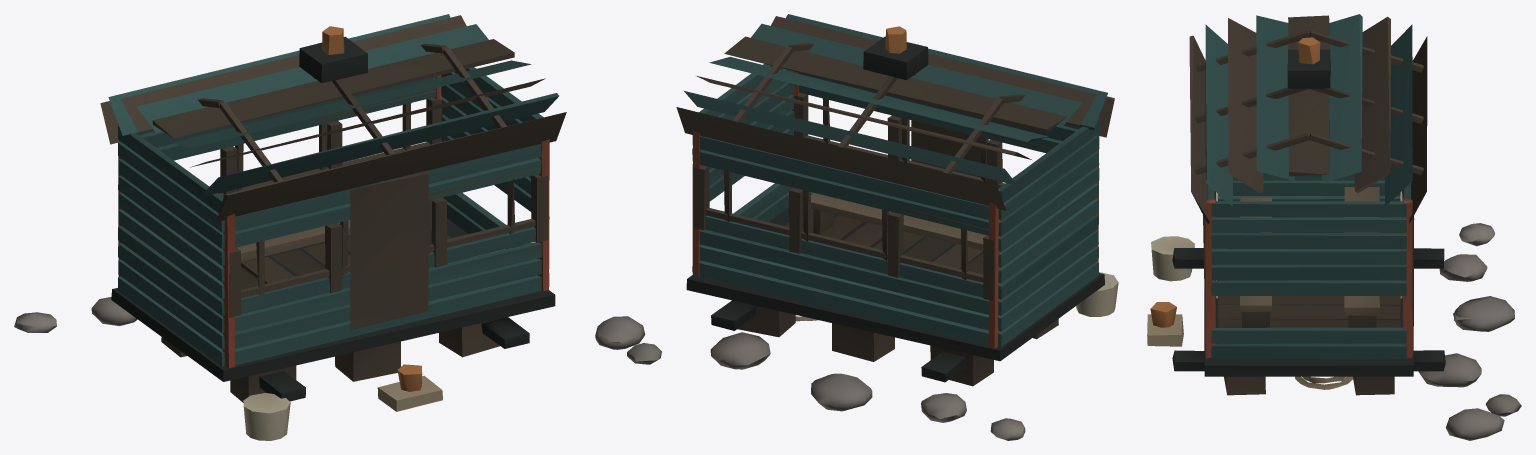
Rendered from tram_car_parked_b_lod2.glb.
3 views of the same model, side by side, from view 1: azimuth 30°, elevation 25°; view 2: azimuth 150°, elevation 25°; view 3: azimuth 270°, elevation 25° (orthographic). The views are drawn at different scales.
Visible parts, largest first — view 1: Surface.001; view 2: Surface.001; view 3: Surface.001.
Boxes of the visible parts, x1,y1,x2,y2 form: Surface.001: [14, 14, 566, 440]; Surface.001: [595, 14, 1118, 440]; Surface.001: [1147, 14, 1521, 440].
Bounding box in the file's own units: 6.53 × 4.38 × 4.94.
